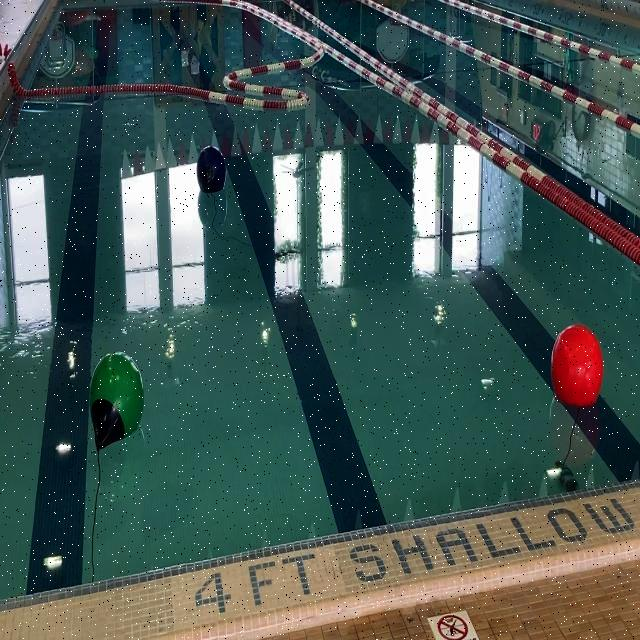buoy: (88, 350, 145, 453), (551, 322, 603, 407), (196, 144, 226, 194)
